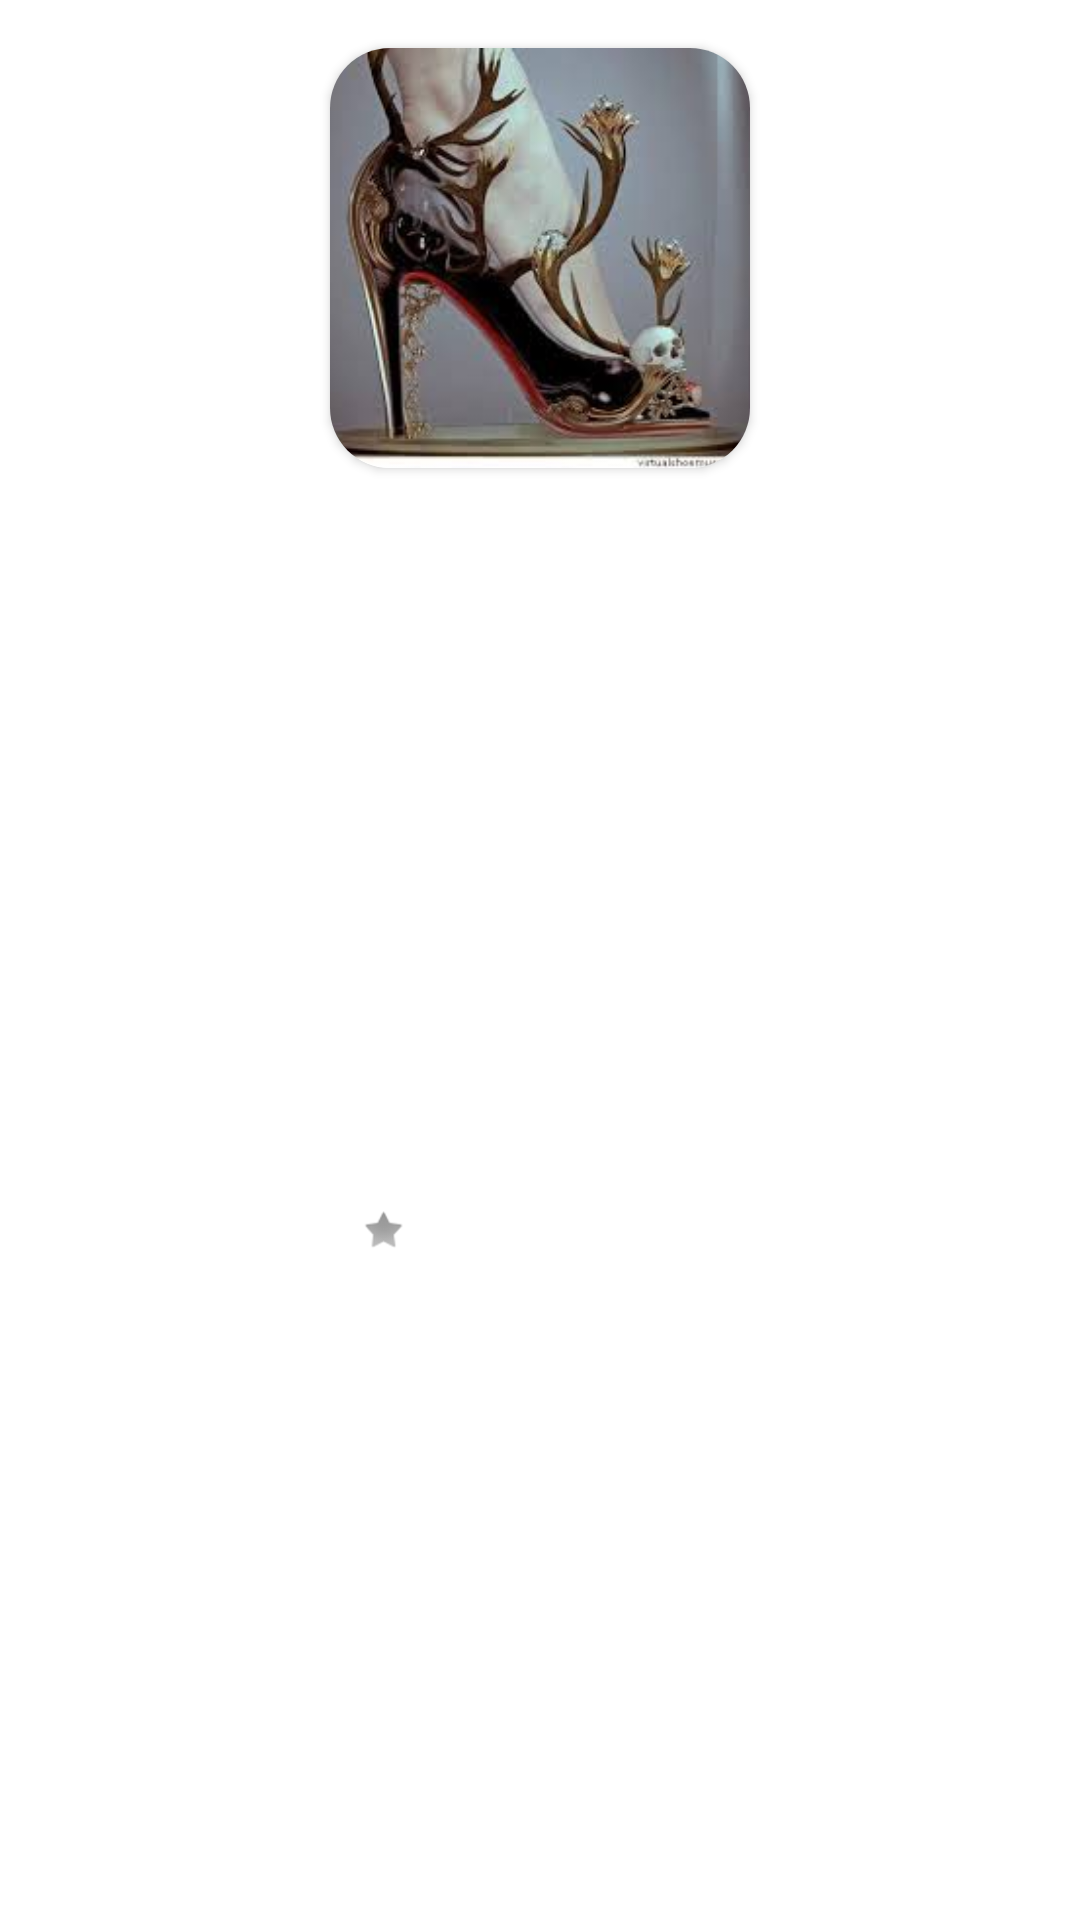

Icons on this 1080 x 1920 Android screen, each with its box as (x1, y1, x2, y2):
star off: (365, 1212, 402, 1247)
